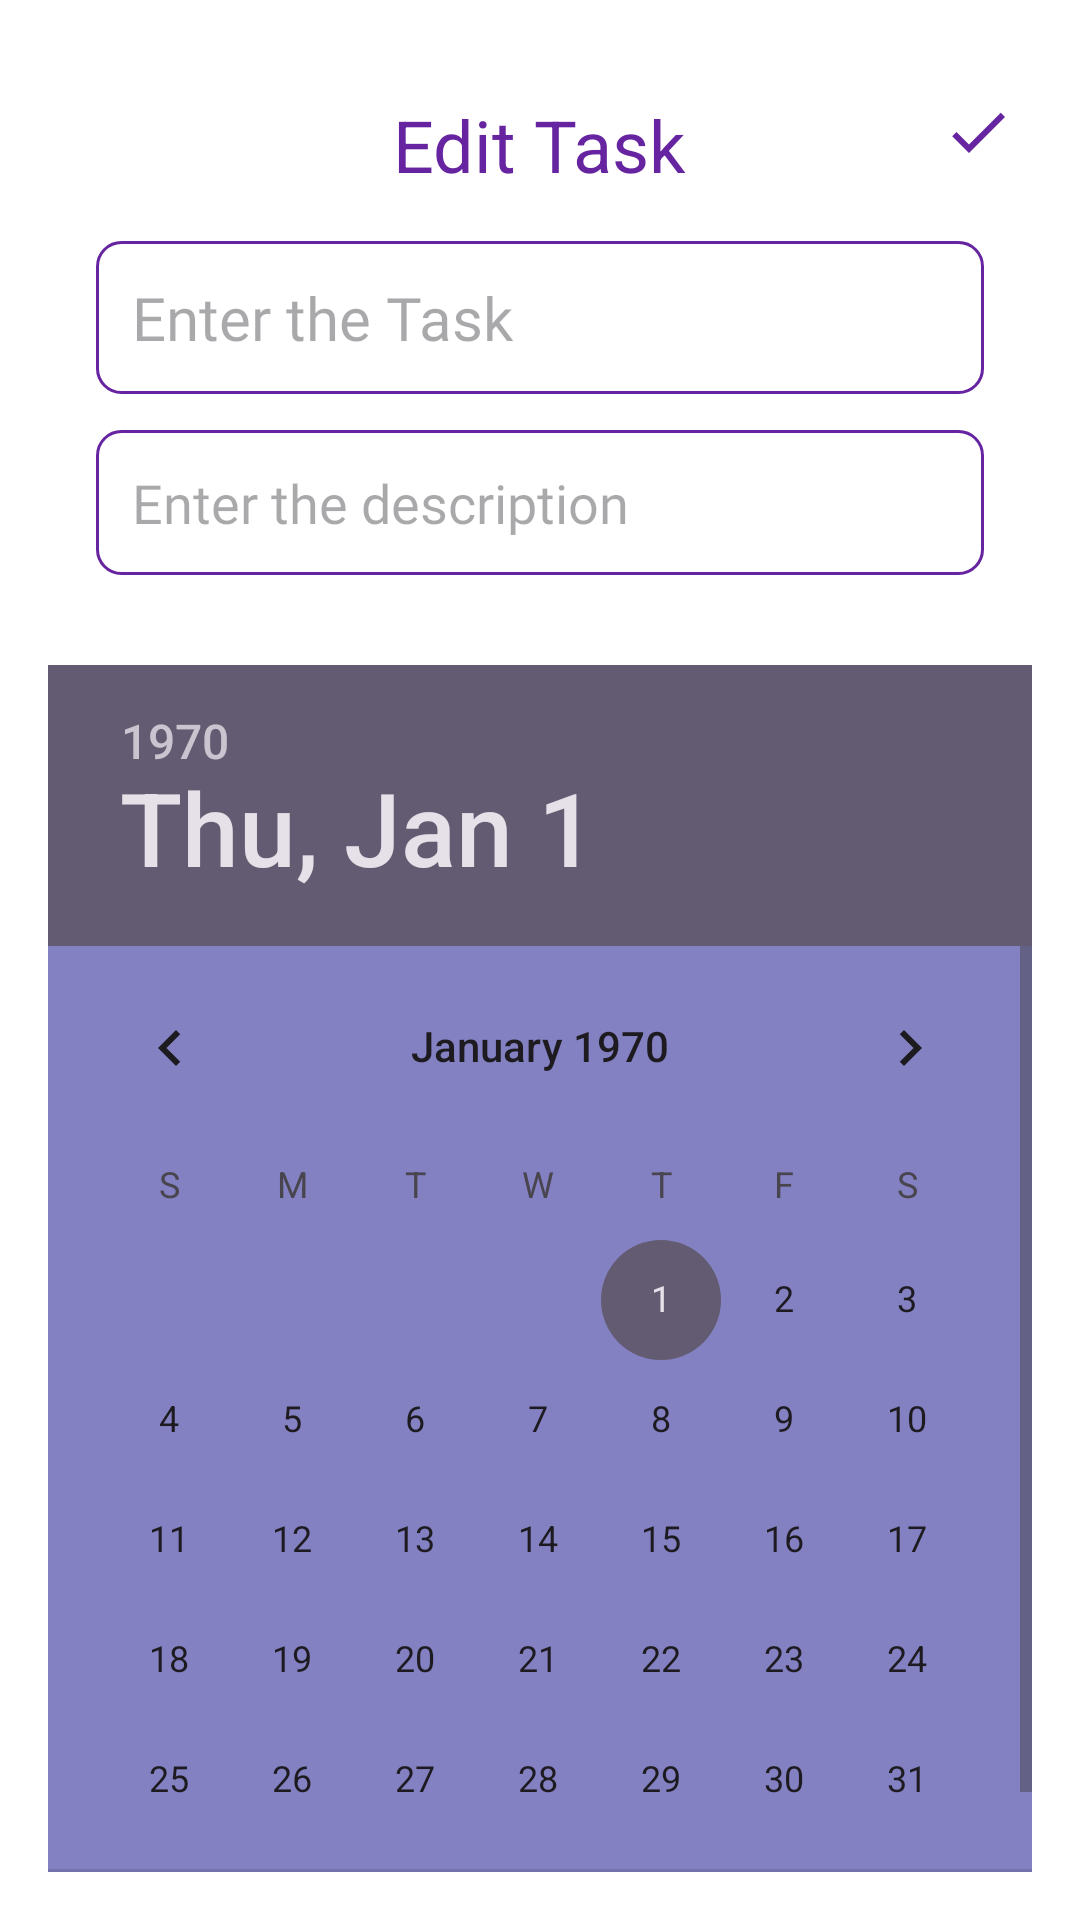

Point at icon controls on the screen. Image size 1080px x 1920px, points as point (x, y).
done: point (978, 133)
